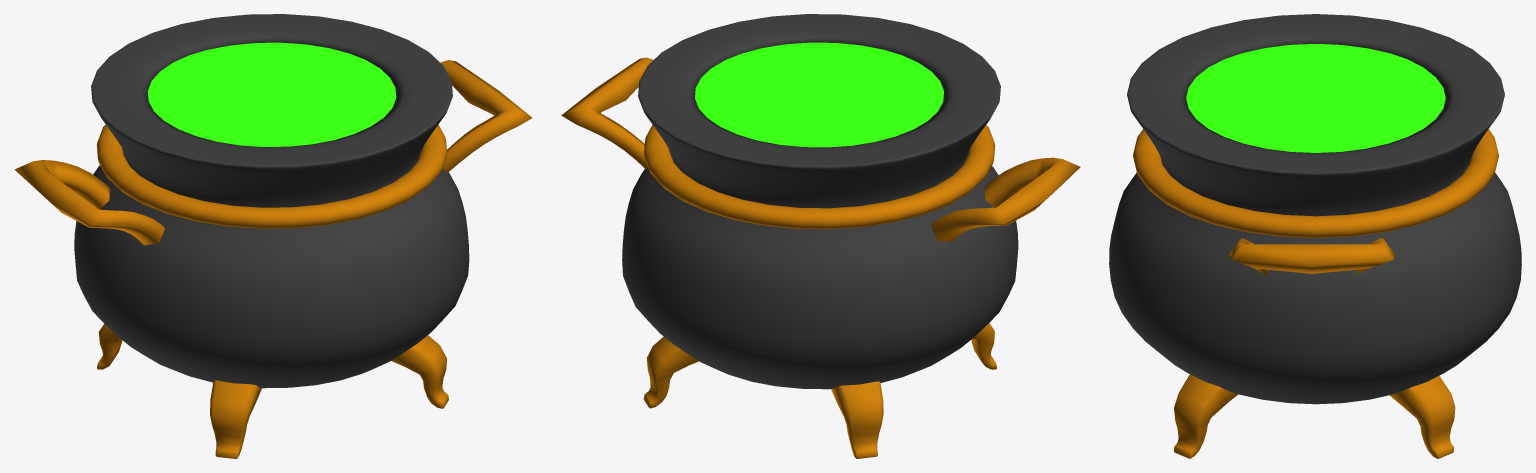
The model's file is cauldron.fbx.
3 renders of one model, left to right at view 1: azimuth 30°, elevation 25°; view 2: azimuth 150°, elevation 25°; view 3: azimuth 270°, elevation 25°, orthographic. The views are drawn at different scales.
Parts seen in each view (by area): view 1: lp_potion.001; view 2: lp_potion.001; view 3: lp_potion.001.
Part boxes in pixels (left/top/right/bottom): lp_potion.001: left=14, top=14, right=532, bottom=458; lp_potion.001: left=561, top=14, right=1080, bottom=458; lp_potion.001: left=1109, top=14, right=1521, bottom=458.
Bounding box in the file's own units: 190 × 121 × 145.
